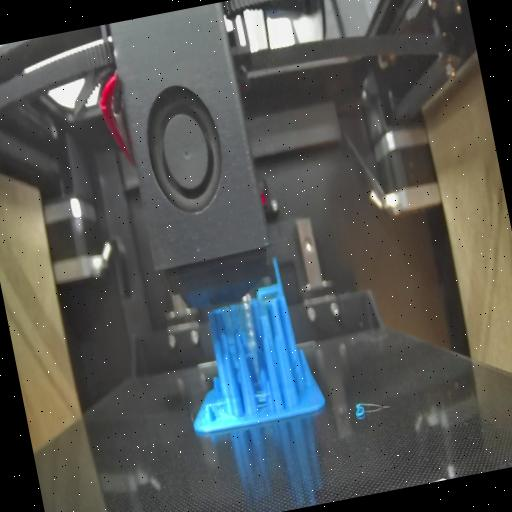stringing: (220, 299, 260, 333), (250, 386, 272, 414), (205, 396, 229, 416)
